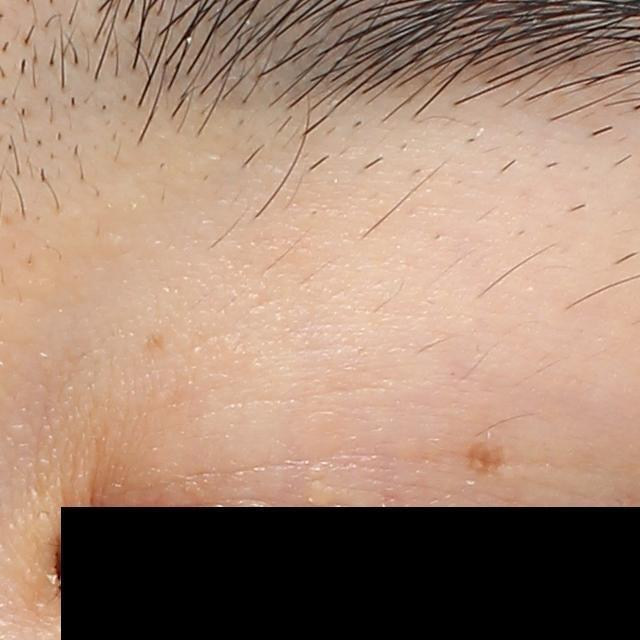melasma: (467, 439, 511, 478)
